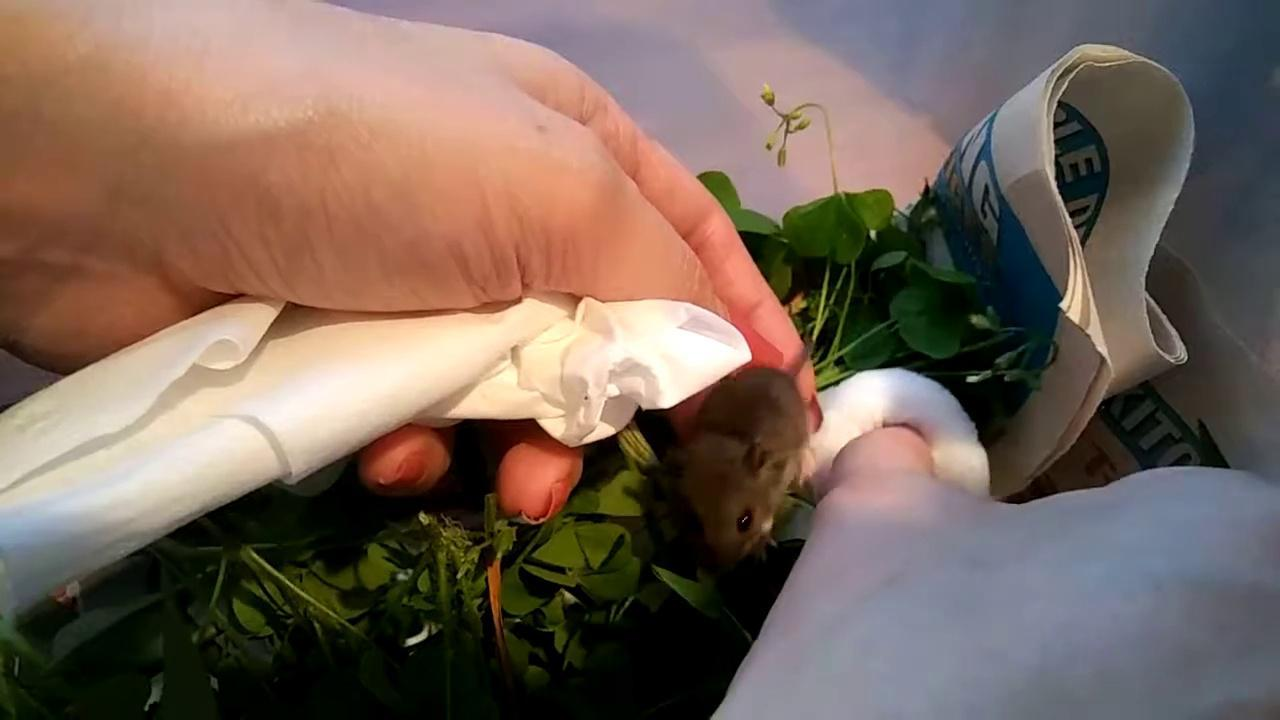rat: (666, 337, 814, 567)
